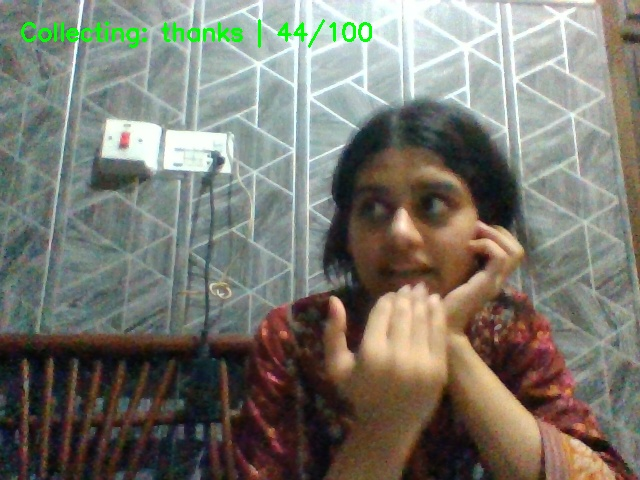thanks: (306, 279, 507, 480)
